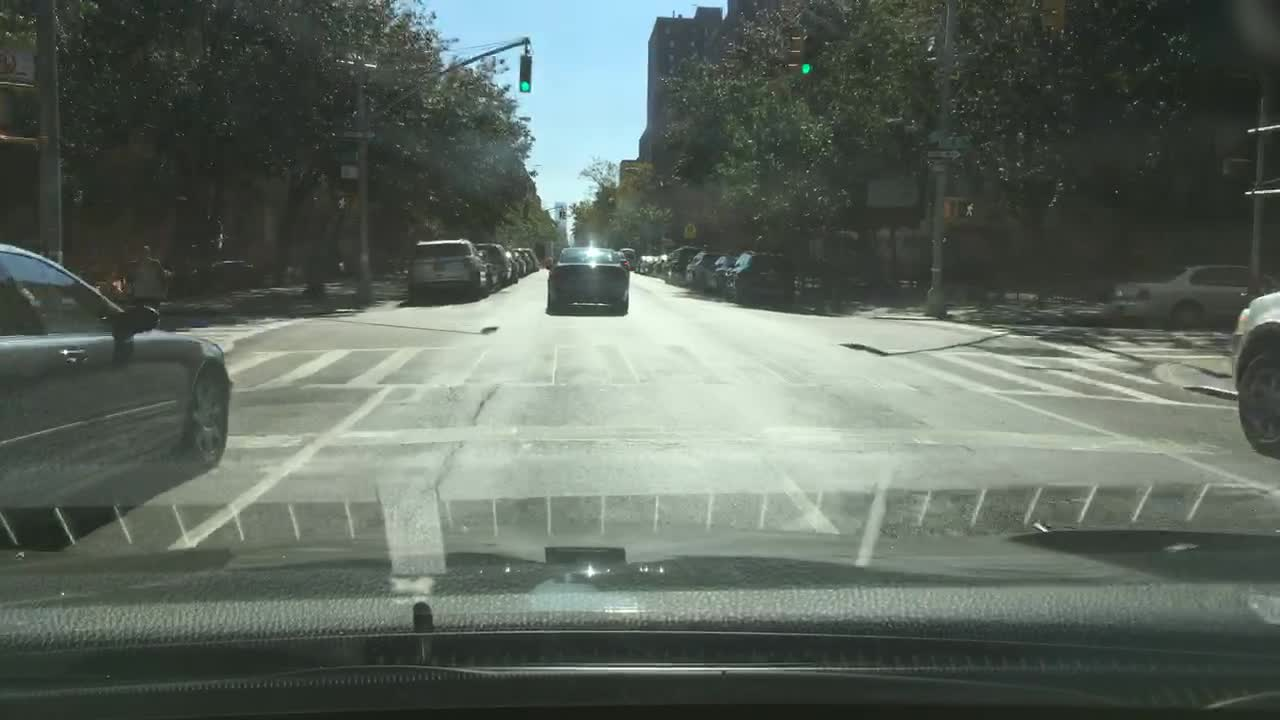car: (0, 243, 234, 532), (1107, 263, 1279, 330), (1231, 287, 1279, 454), (543, 244, 629, 314), (407, 238, 483, 302), (729, 249, 798, 311), (682, 250, 722, 291), (484, 242, 513, 289), (707, 254, 735, 302), (668, 244, 693, 288), (478, 247, 502, 292), (618, 245, 635, 274), (515, 250, 532, 275), (507, 251, 520, 282), (653, 253, 666, 279), (528, 249, 541, 271), (636, 252, 645, 277), (541, 254, 555, 269), (644, 256, 654, 277)
person: (124, 243, 170, 329)
traffic light: (800, 33, 817, 77), (945, 197, 977, 216), (787, 35, 802, 74), (519, 53, 531, 93), (337, 195, 354, 212)
traffic sign: (935, 132, 980, 147), (334, 128, 381, 142), (927, 146, 966, 162), (328, 148, 362, 162), (681, 221, 698, 239), (342, 163, 360, 176)
